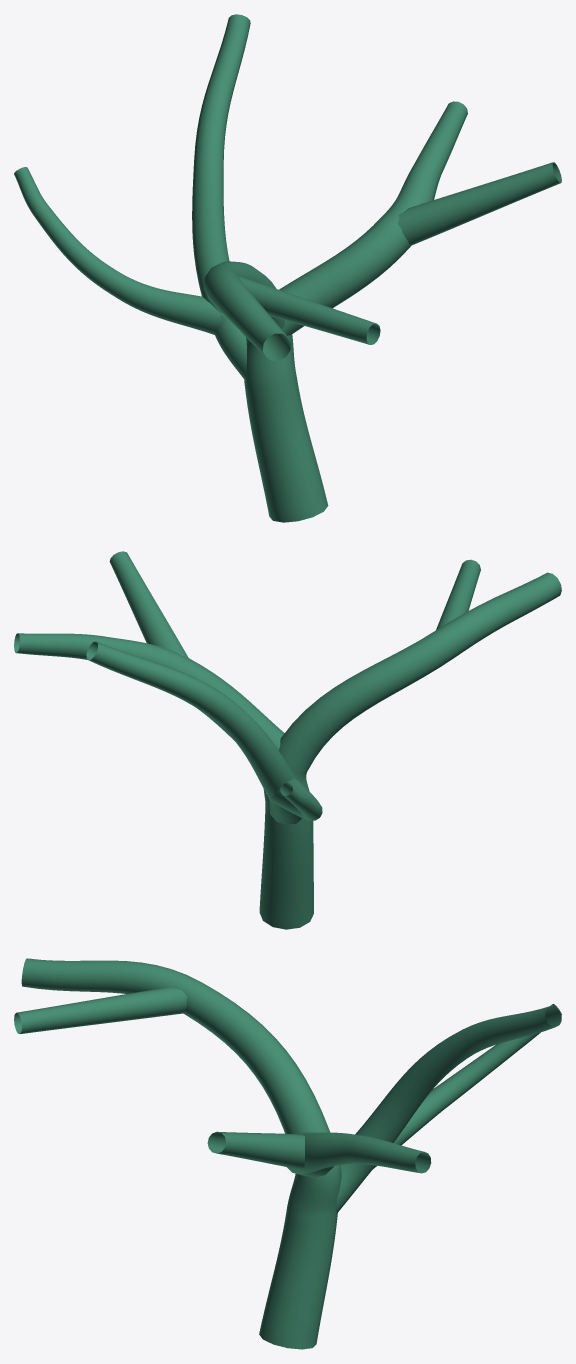
3 renders of one model, top to bottom at view 1: azimuth 30°, elevation 25°; view 2: azimuth 150°, elevation 25°; view 3: azimuth 270°, elevation 25°, orthographic. The views are drawn at different scales.
Parts seen in each view (by area): view 1: 左肺下叶上段支气管（第6段）; view 2: 左肺下叶上段支气管（第6段）; view 3: 左肺下叶上段支气管（第6段）.
Part boxes in pixels (left/top/right/bottom): 左肺下叶上段支气管（第6段）: left=14, top=14, right=561, bottom=522; 左肺下叶上段支气管（第6段）: left=14, top=551, right=561, bottom=929; 左肺下叶上段支气管（第6段）: left=14, top=958, right=561, bottom=1349.
Size of the model in its own units: 0.0916 by 0.0832 by 0.1106.
